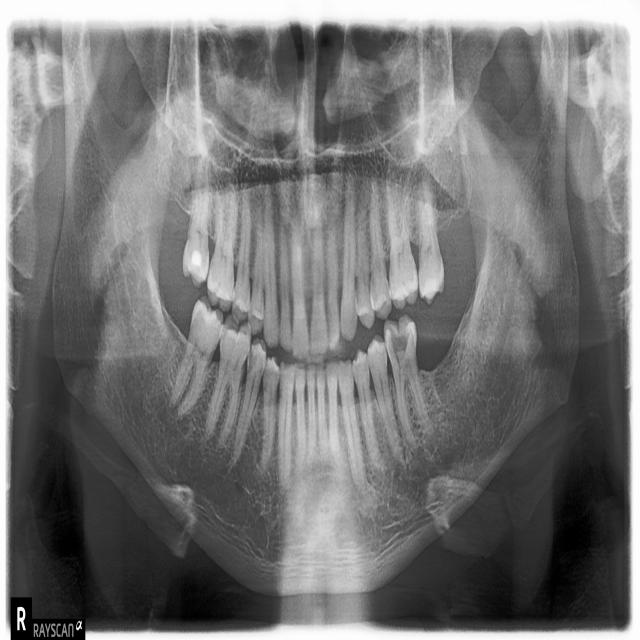mandibula: (51, 15, 581, 598)
